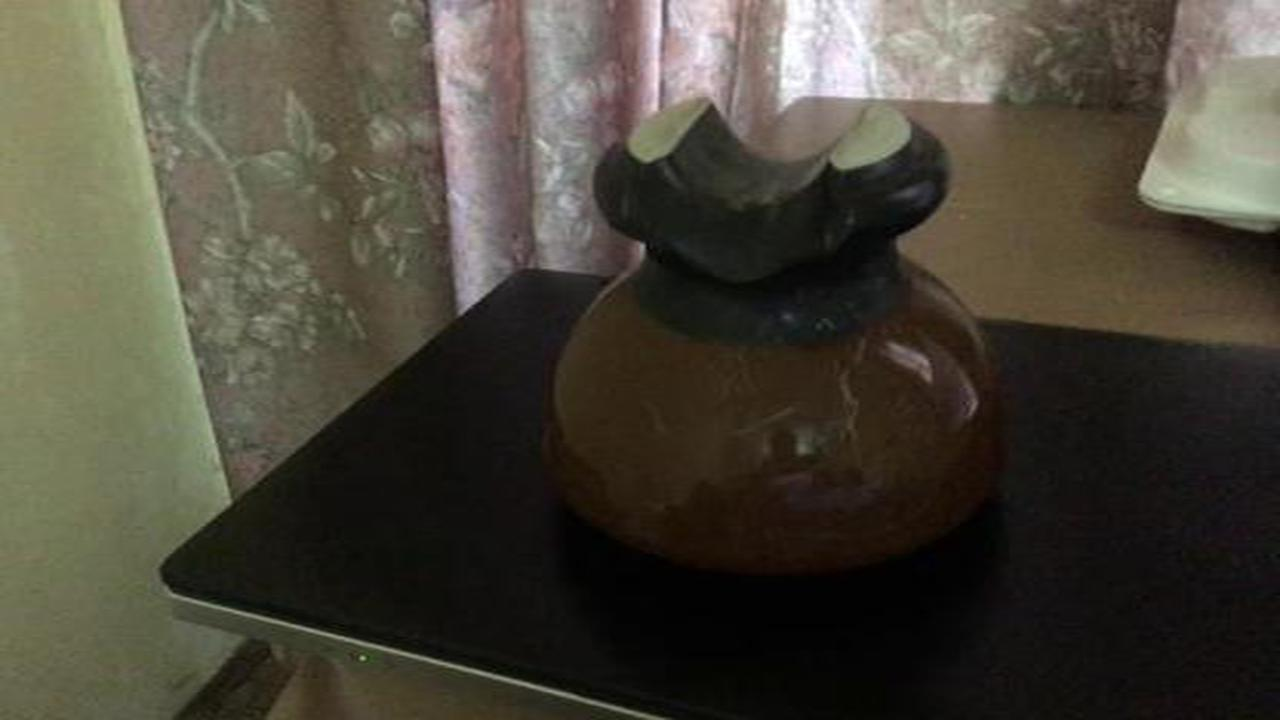insulator_pin: (530, 85, 1037, 598)
